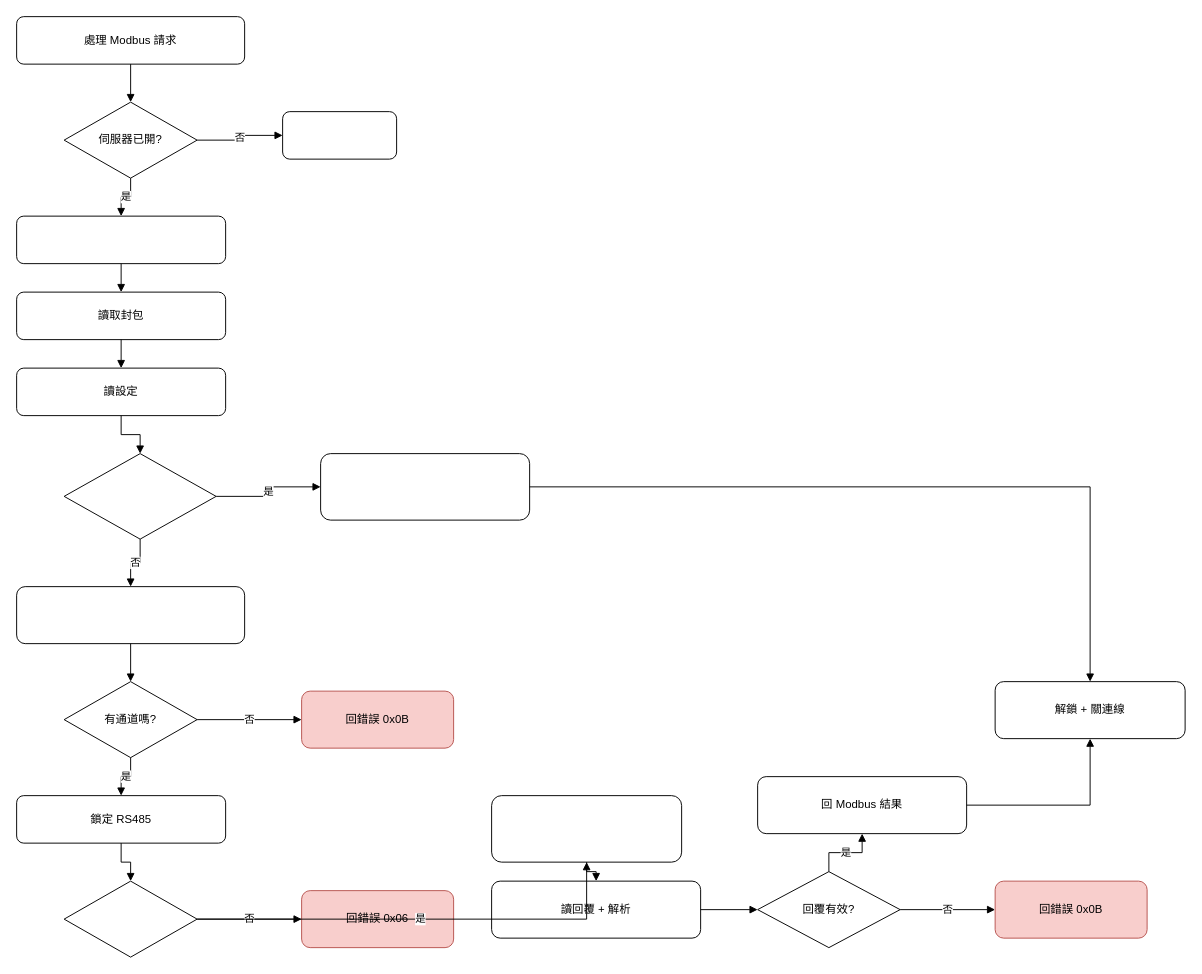
This 1202x974 diagram has some shape labels left out. The centre of each missing label's shape, as x and y in pixels:
先回去: pixel 339 135
對應到 CH0 / CH1: pixel 130 615
接收連線: pixel 121 239
組包 + 送出: pixel 586 828
讀本機暫存(regs): pixel 425 486
這筆是讀本機嗎?: pixel 139 496
鎖成功?: pixel 130 918
